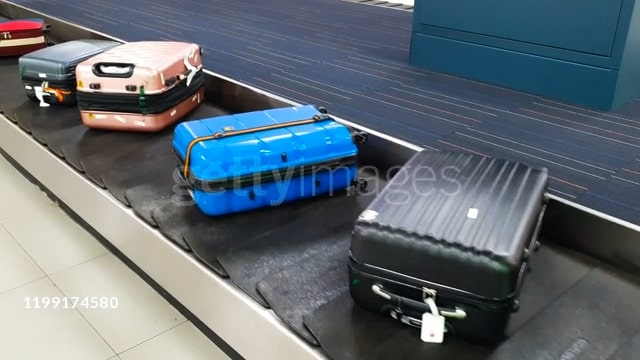baggage: (345, 143, 551, 355), (168, 104, 372, 218), (78, 40, 214, 135), (18, 39, 118, 104), (1, 17, 55, 57)
